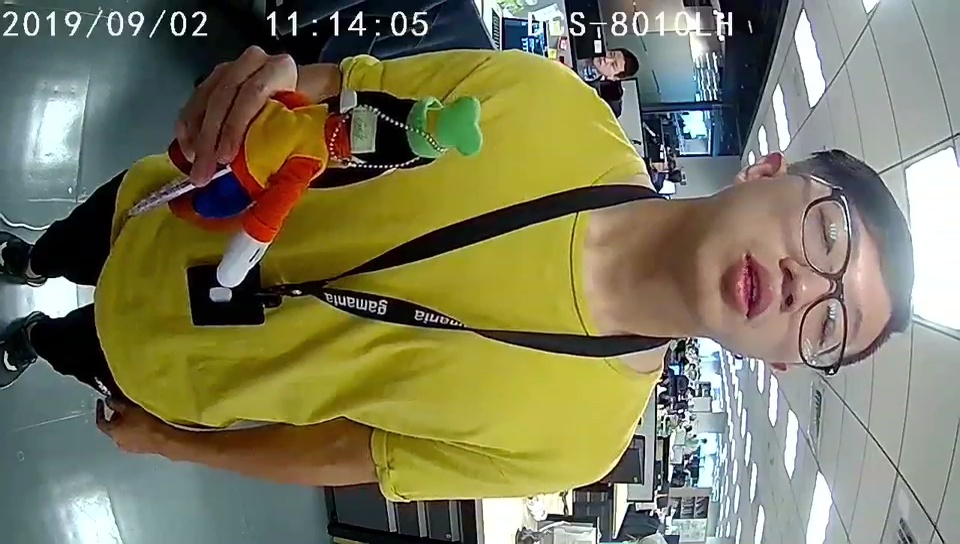goofy: (217, 89, 480, 288)
